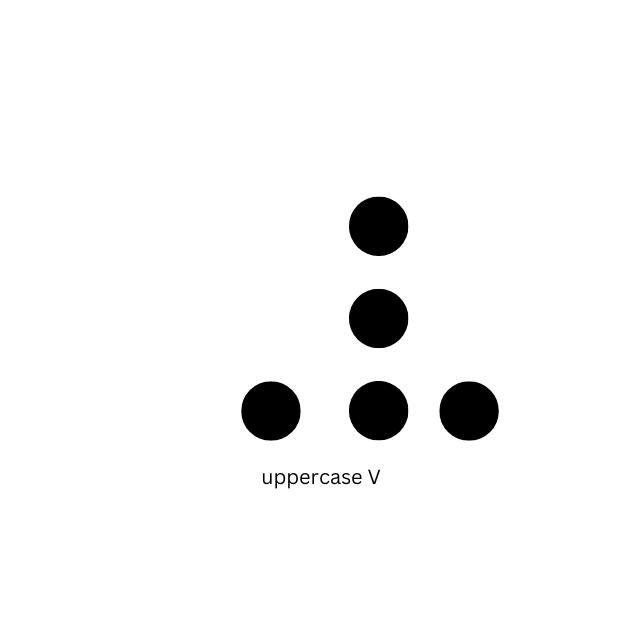capital_sign: (154, 199, 302, 442)
letter_V: (350, 197, 498, 440)
